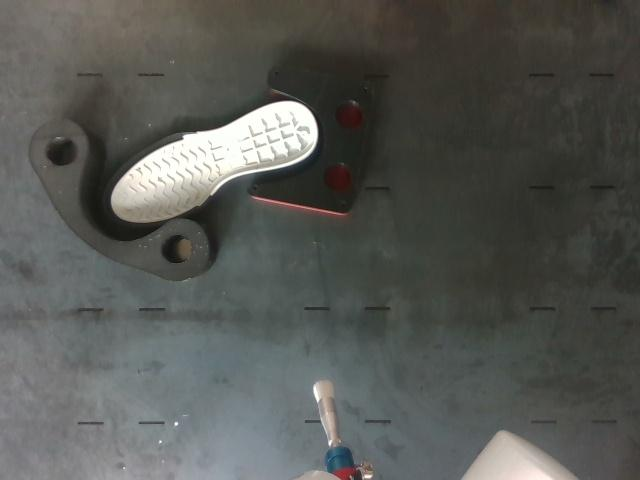shoes: (102, 101, 317, 228)
